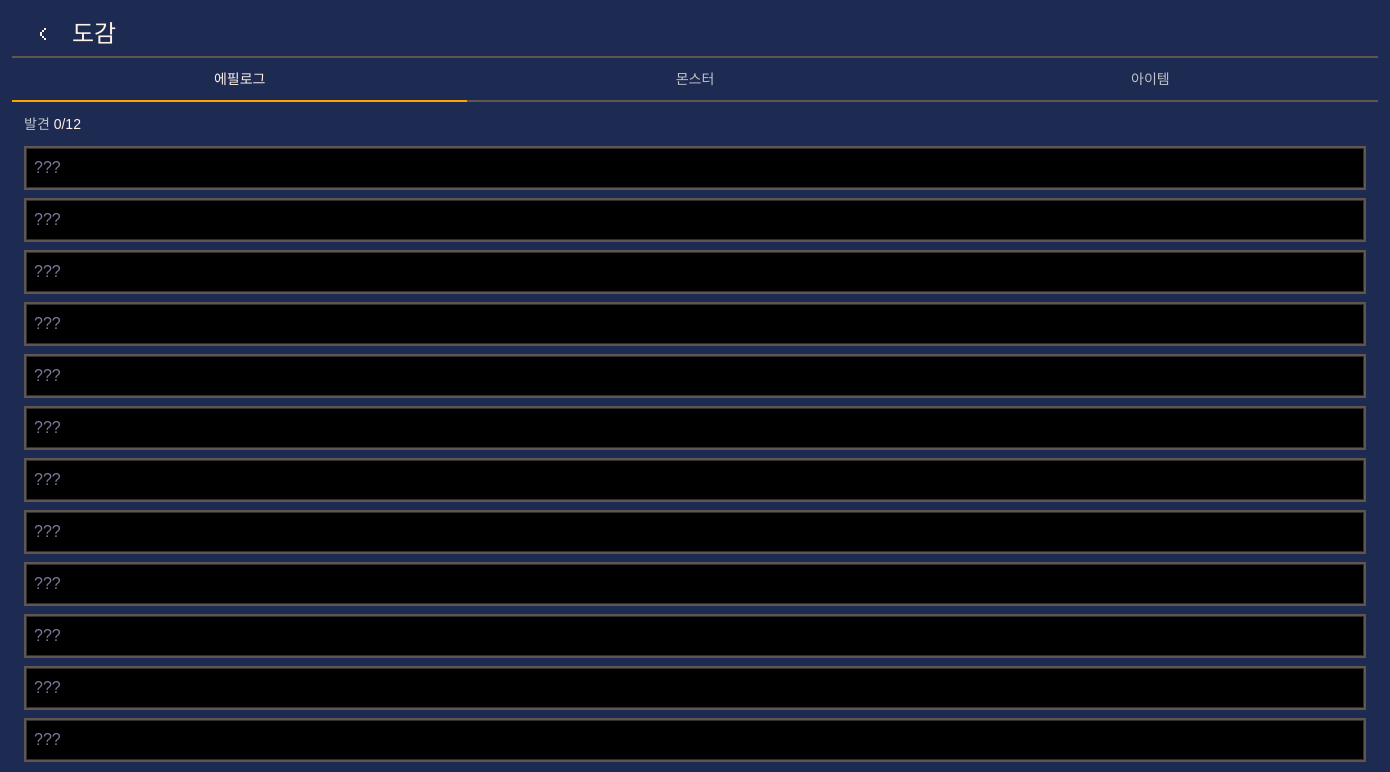
Scenario: items tab shows the name of a discovered item
Click the tab "아이템".
click(1150, 80)  # box [923,58,1378,102]
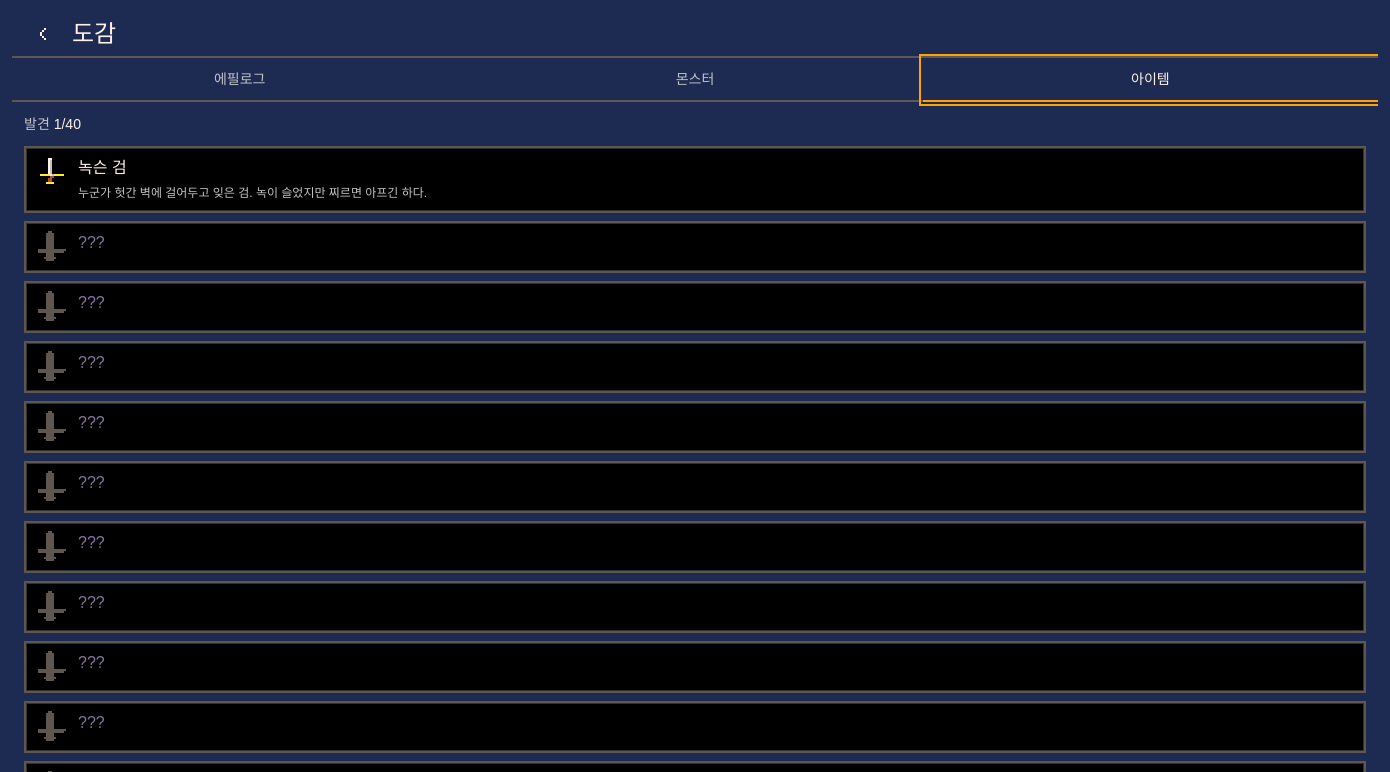
Now the text "녹슨 검" is shown, box [78,156,127,180]
Now the text "1/40" is shown, box [54,116,81,132]
